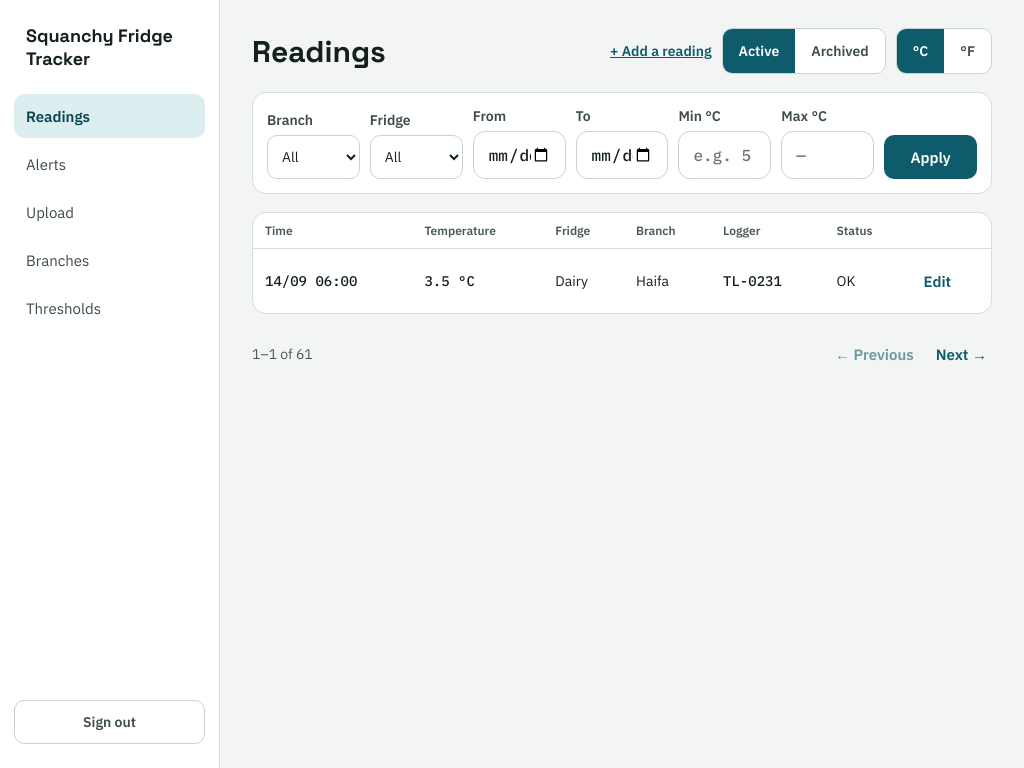
Test: ReadingsPage paging › shows the range and loads the next page from the next offset
Check: the text "1–1 of 61" is shown, box [252,345,313,363]
Click the button "Next →".
click(961, 354)  # box [931,332,992,376]
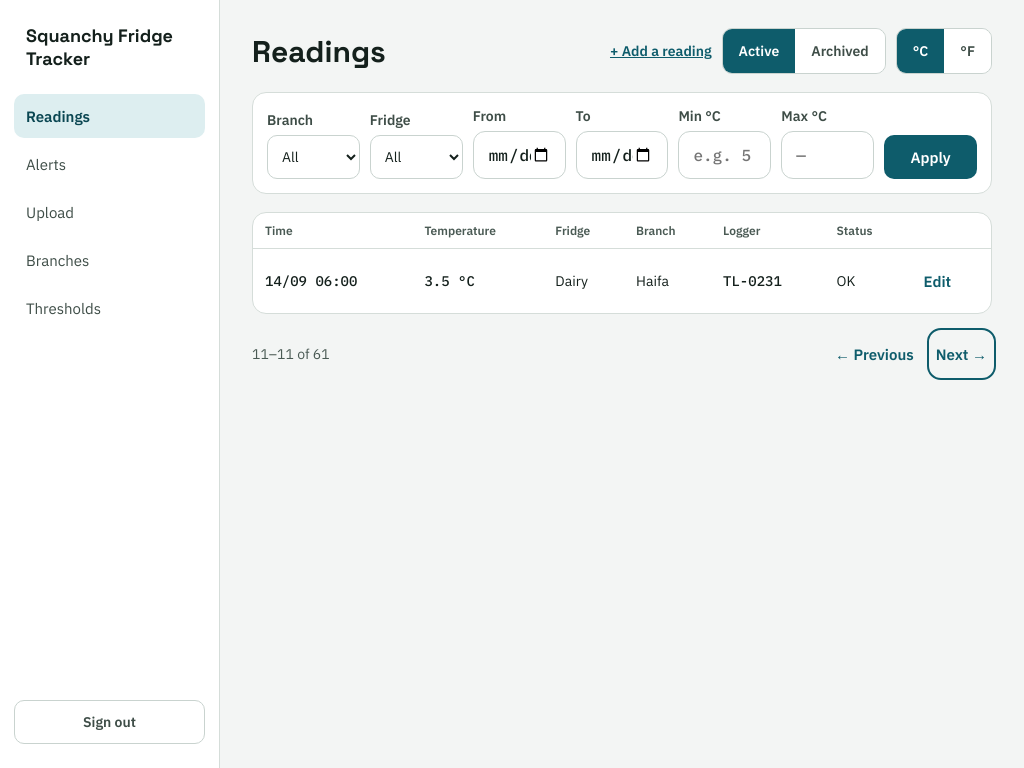
Check: the text "11–11 of 61" is shown, box [252,345,330,363]
